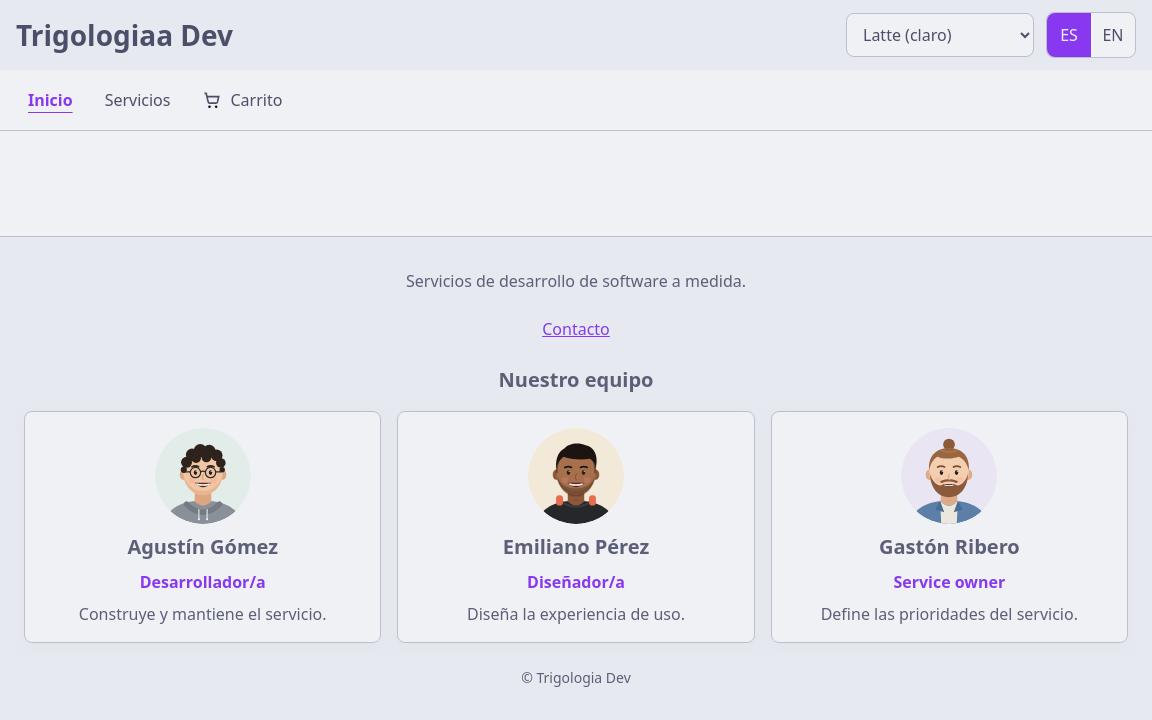
Layout › switches the navigation to English
Click the button "EN". click: (1113, 35)
box: [1091,13,1135,57]
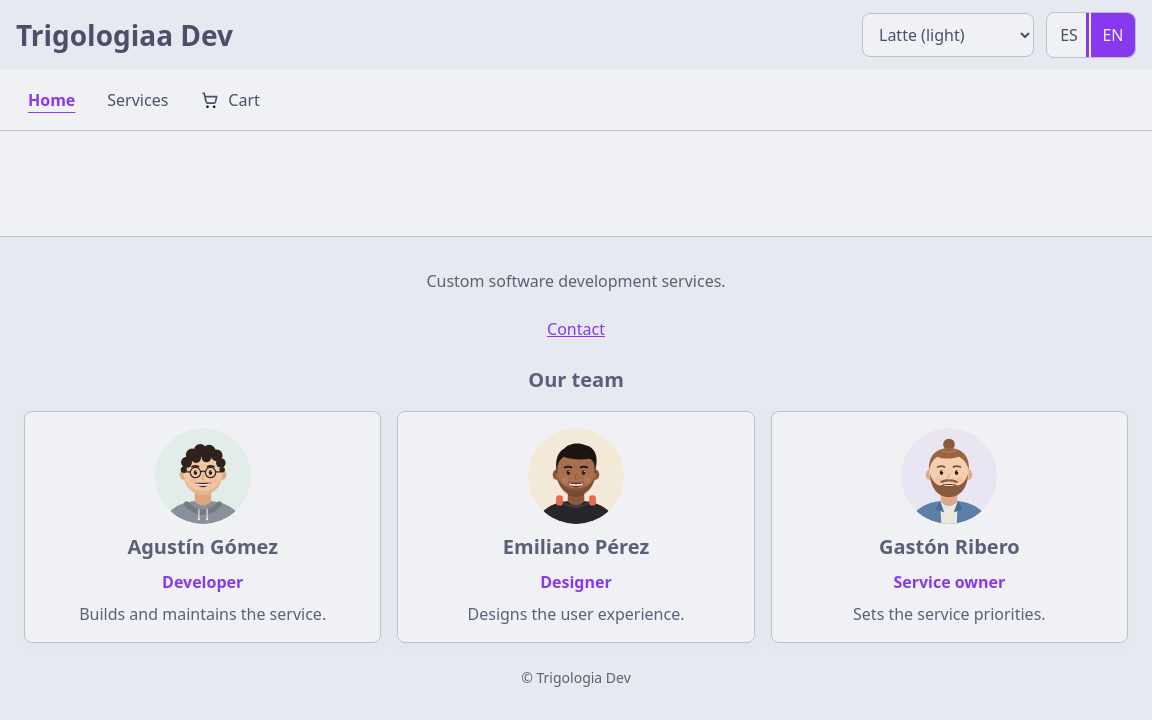
Result: the link "Home" is shown at [28,89,75,111]
Result: the link "Services" is shown at [107,89,168,111]
Result: the link "Cart" is shown at [200,89,260,111]
